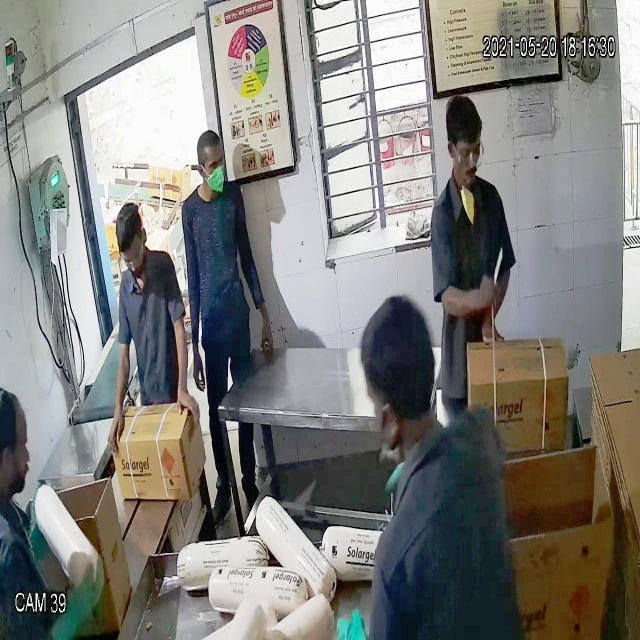Gafas: (446, 137, 492, 170)
